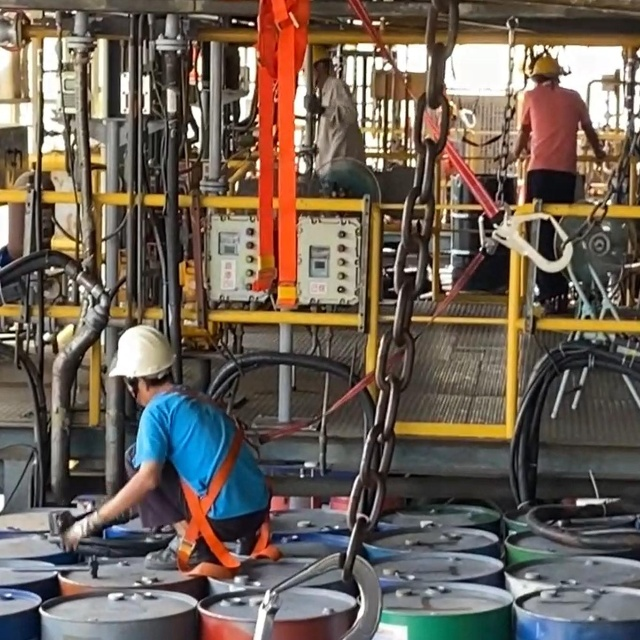Arnes_seguridad: (152, 387, 281, 571)
